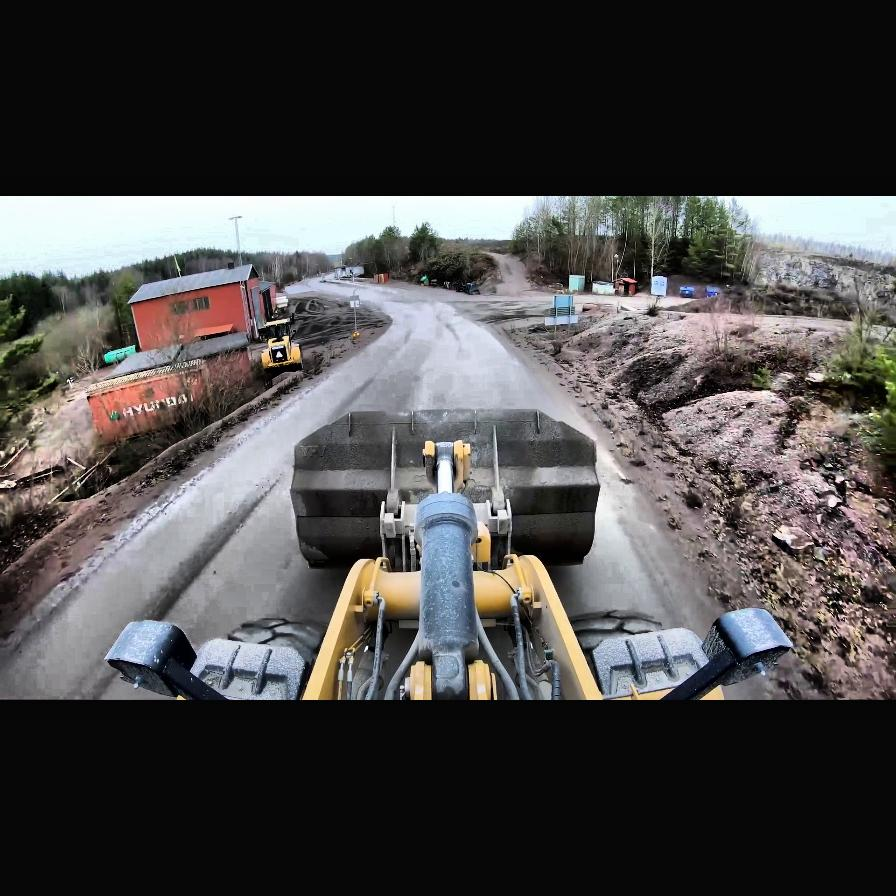anchor: (425, 438, 471, 494)
